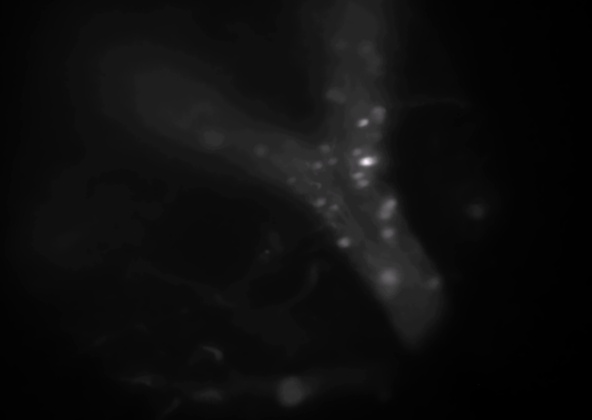cell: (358, 155, 372, 169), (357, 116, 371, 130), (372, 105, 386, 119), (350, 145, 364, 159), (366, 154, 380, 168), (316, 143, 330, 157), (311, 157, 325, 171), (325, 154, 339, 168), (326, 88, 340, 102), (350, 169, 364, 183), (335, 92, 349, 106), (355, 177, 369, 191), (336, 237, 350, 251), (382, 272, 396, 286), (380, 227, 394, 241), (383, 196, 397, 210), (378, 206, 392, 220), (379, 201, 393, 215), (312, 195, 326, 209), (328, 201, 342, 215), (285, 174, 299, 188), (253, 143, 267, 157), (207, 134, 221, 148), (430, 277, 444, 291), (358, 43, 372, 57), (367, 56, 381, 70), (334, 40, 348, 54), (371, 130, 385, 144)
